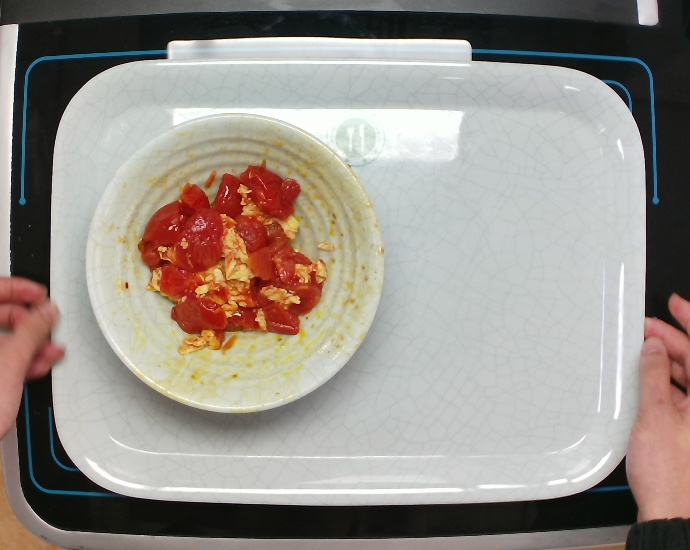JYsf-Xiao_Tang_Wan: (71, 107, 391, 416)
